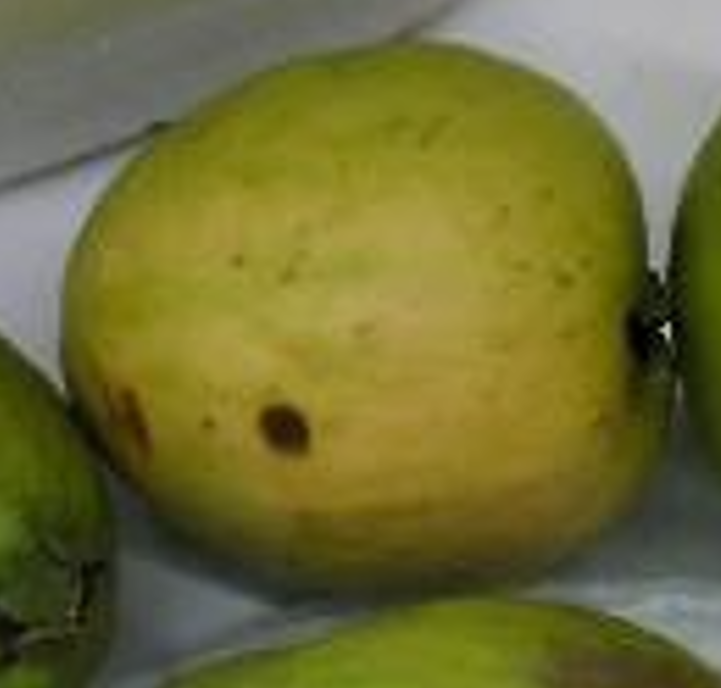guava_B: (61, 40, 674, 607)
